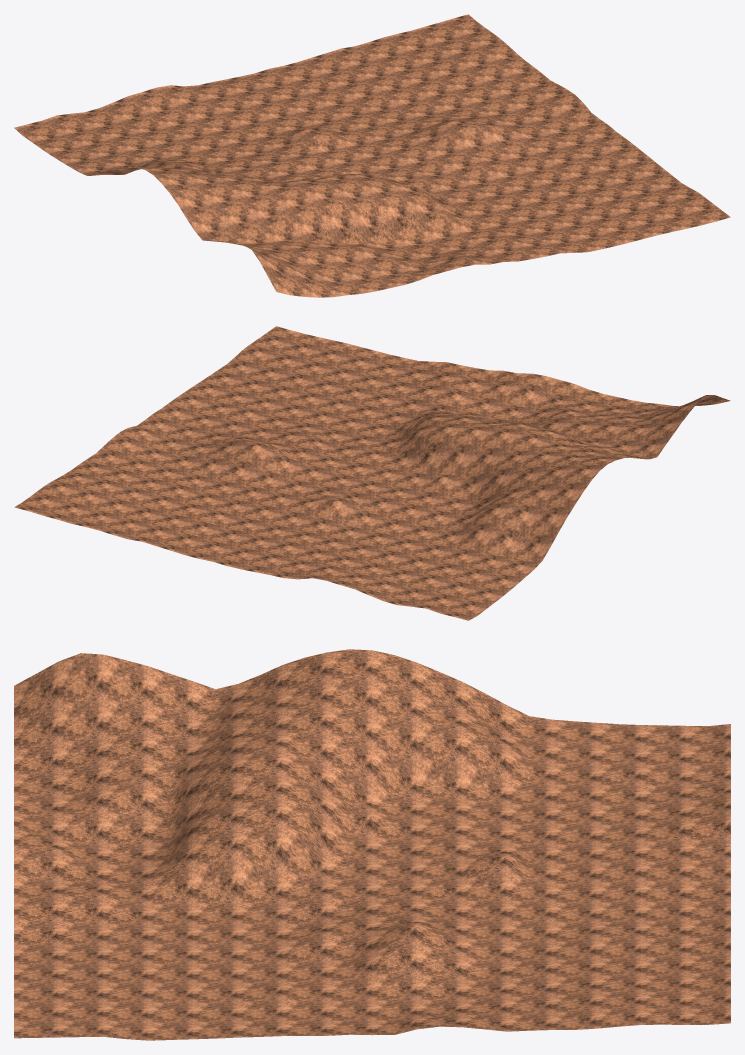
The model's file is terrain_07_06.dae.
The picture shows the model from 3 angles, top to bottom: view 1: azimuth 30°, elevation 25°; view 2: azimuth 150°, elevation 25°; view 3: azimuth 270°, elevation 25°; orthographic projection. The views are drawn at different scales.
Visible parts, largest first — view 1: terrain_07_06-node; view 2: terrain_07_06-node; view 3: terrain_07_06-node.
Boxes of the visible parts, left/top/right/bottom form: terrain_07_06-node: left=14, top=14, right=730, bottom=297; terrain_07_06-node: left=14, top=326, right=730, bottom=620; terrain_07_06-node: left=14, top=649, right=730, bottom=1040.
Bounding box in the file's own units: 128 × 128 × 17.41.
1 material, 1 textured.
